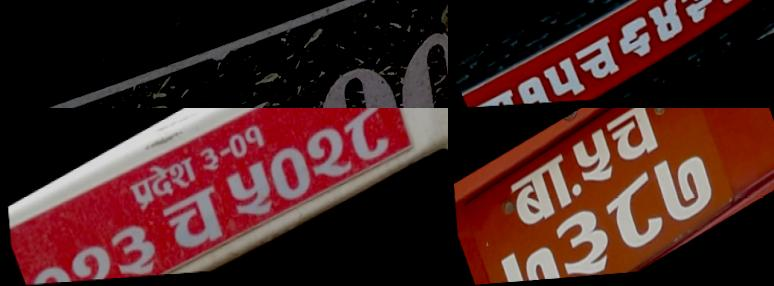0: (504, 154, 578, 234), (260, 143, 316, 216), (20, 254, 78, 286), (223, 130, 249, 166)
1: (510, 72, 556, 105), (238, 121, 268, 162)
2: (296, 121, 357, 198), (58, 233, 120, 283), (706, 0, 752, 14)
3: (99, 212, 160, 281), (676, 0, 724, 33), (195, 144, 222, 179)
4: (642, 0, 693, 50)
5: (217, 155, 279, 233), (537, 55, 588, 104)
6: (568, 127, 620, 194), (610, 15, 661, 70)
7: (647, 141, 716, 232), (495, 232, 562, 283)
8: (336, 108, 398, 179)
9: (603, 108, 665, 174)
ba: (546, 201, 615, 280), (462, 84, 527, 108)
cha: (152, 178, 231, 269), (291, 61, 421, 108), (372, 29, 448, 108), (568, 35, 628, 94)
pa: (599, 171, 669, 263)
